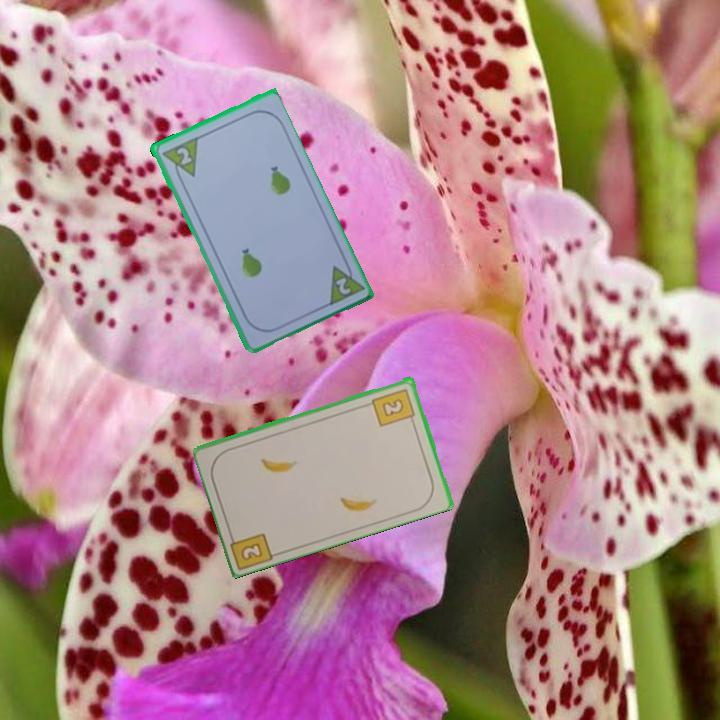2b: (226, 527, 277, 571), (369, 385, 418, 429)
2p: (172, 143, 194, 168), (332, 273, 353, 298)
